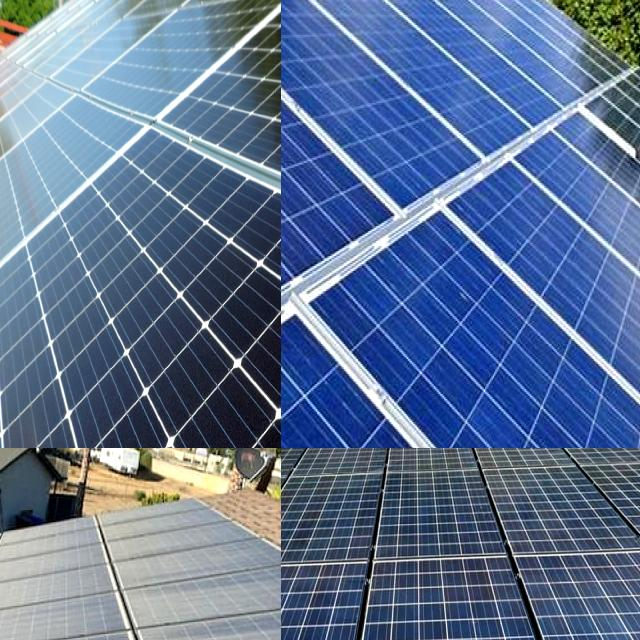crack: (281, 0, 613, 159), (503, 114, 640, 390), (42, 280, 202, 440), (325, 255, 513, 368), (150, 360, 281, 448), (58, 399, 176, 448), (281, 563, 349, 640), (143, 130, 201, 218), (390, 586, 478, 640), (530, 576, 620, 626), (384, 507, 484, 551), (502, 499, 592, 545), (281, 518, 367, 560), (281, 491, 321, 558), (387, 448, 481, 469), (281, 589, 317, 640), (622, 485, 640, 537)
dust: (161, 562, 281, 640), (110, 504, 188, 570), (0, 584, 111, 625), (0, 534, 104, 570), (0, 548, 28, 584), (0, 600, 53, 615)
